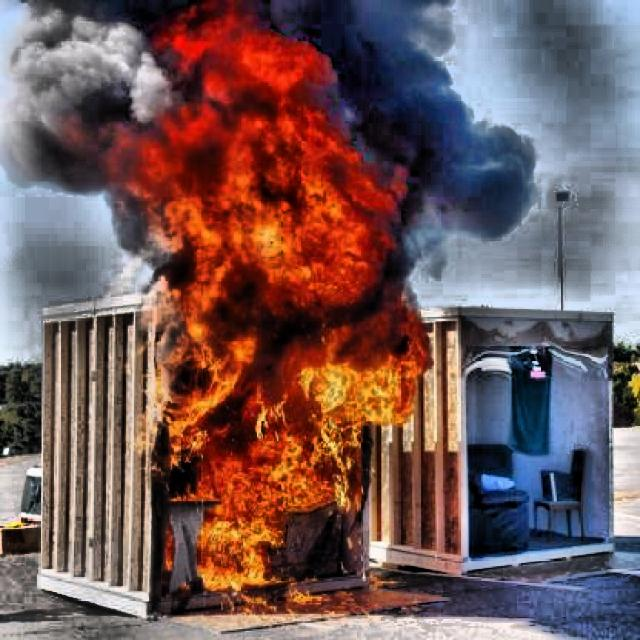Fire: (115, 0, 431, 609)
